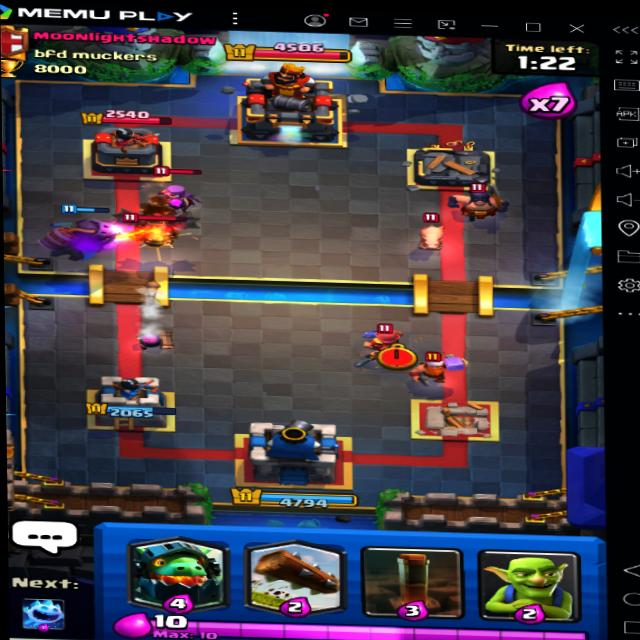executioner: (448, 177, 509, 222)
fisherman: (354, 319, 408, 370)
lava-hound: (106, 207, 204, 249)
lumberjack: (407, 348, 474, 386)
mother-witch: (150, 170, 201, 214)
pig: (412, 207, 449, 254)
